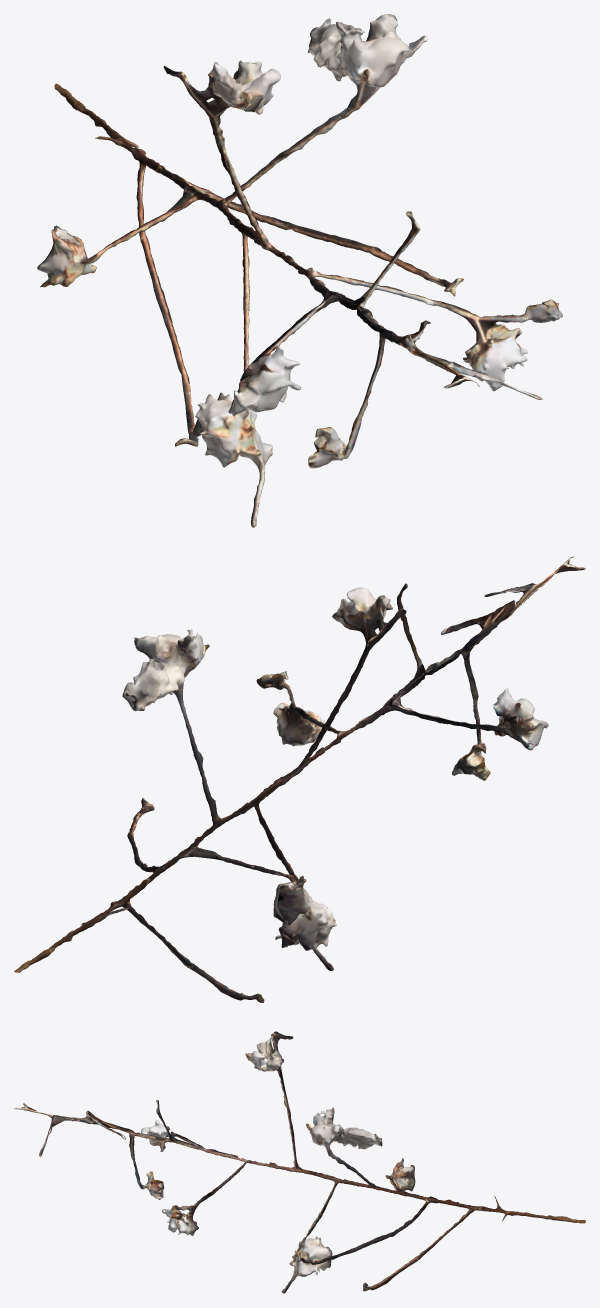
Rendered from plant_26_grouped.obj.
3 renders of one model, top to bottom at view 1: azimuth 30°, elevation 25°; view 2: azimuth 150°, elevation 25°; view 3: azimuth 270°, elevation 25°, orthographic. The views are drawn at different scales.
Visible parts, largest first — view 1: Cotton_Boll_Part, Cotton_Remaining; view 2: Cotton_Remaining, Cotton_Boll_Part; view 3: Cotton_Remaining, Cotton_Boll_Part.
Part boxes in pixels (x1,y1,x2,y2): Cotton_Boll_Part: [37, 14, 528, 468]; Cotton_Remaining: [54, 35, 562, 527]; Cotton_Remaining: [14, 556, 585, 1002]; Cotton_Boll_Part: [122, 587, 548, 950]; Cotton_Remaining: [14, 1031, 585, 1293]; Cotton_Boll_Part: [141, 1038, 415, 1276].
Bounding box in the file's own units: 1.45 × 1.8 × 3.83.
Materials: 1 (1 with a texture image).
